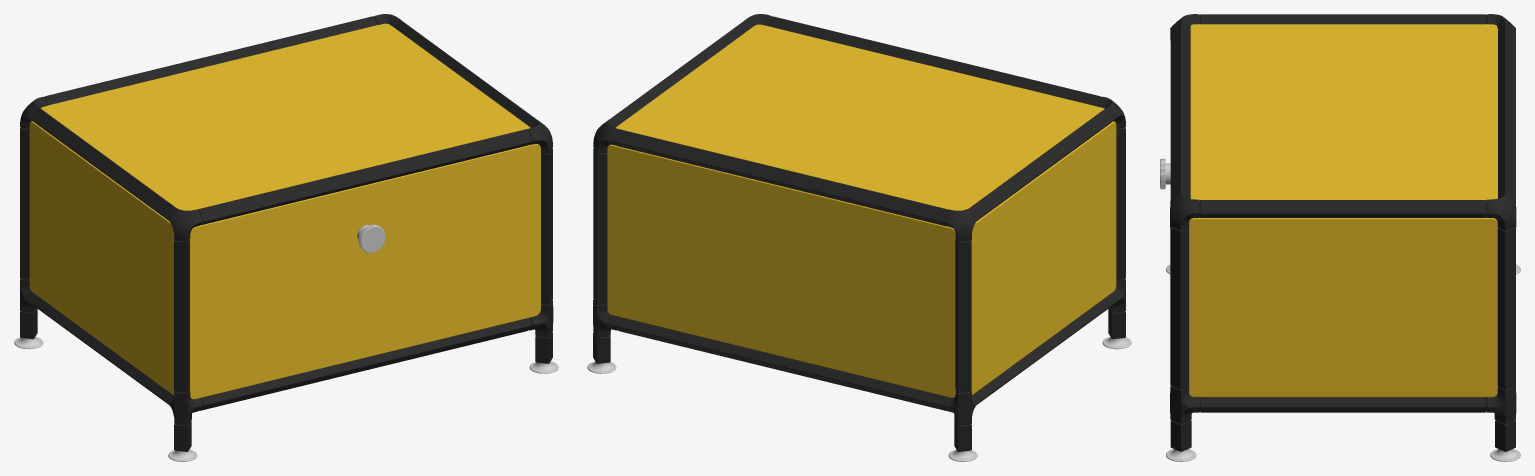
3 views of the same model, side by side, from view 1: azimuth 30°, elevation 25°; view 2: azimuth 150°, elevation 25°; view 3: azimuth 270°, elevation 25° (orthographic). The views are drawn at different scales.
Parts seen in each view (by area): view 1: 523x374x229; view 2: 523x374x229; view 3: 523x374x229.
Boxes of the visible parts, x1,y1,x2,y2 form: 523x374x229: (14, 14, 558, 461); 523x374x229: (587, 14, 1131, 461); 523x374x229: (1160, 14, 1520, 461).
Bounding box in the file's own units: 0.6129 × 0.3684 × 0.4707.
